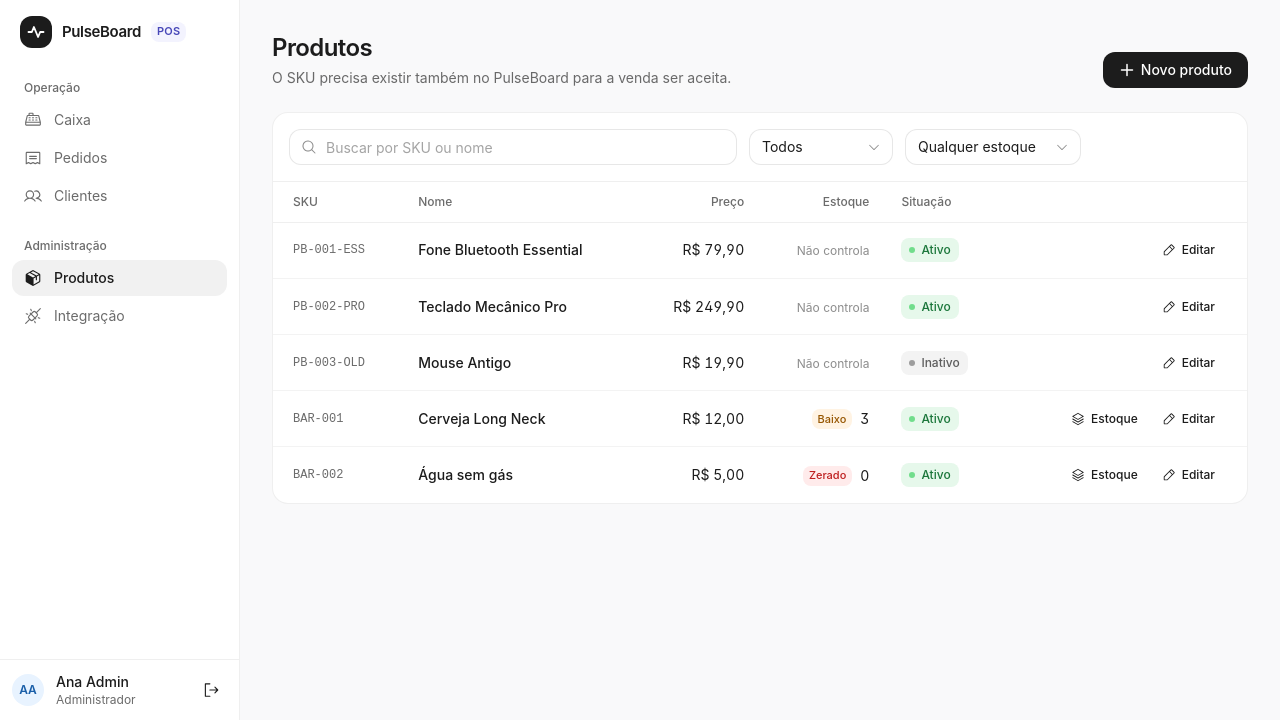
Test: stock (admin) › requires a reason for an adjustment and shows a balance that would go negative
The image size is (1280, 720).
Click the button with aria-label "Estoque de Cerveja Long Neck" at (1104, 418), box [1059,402,1150,434]
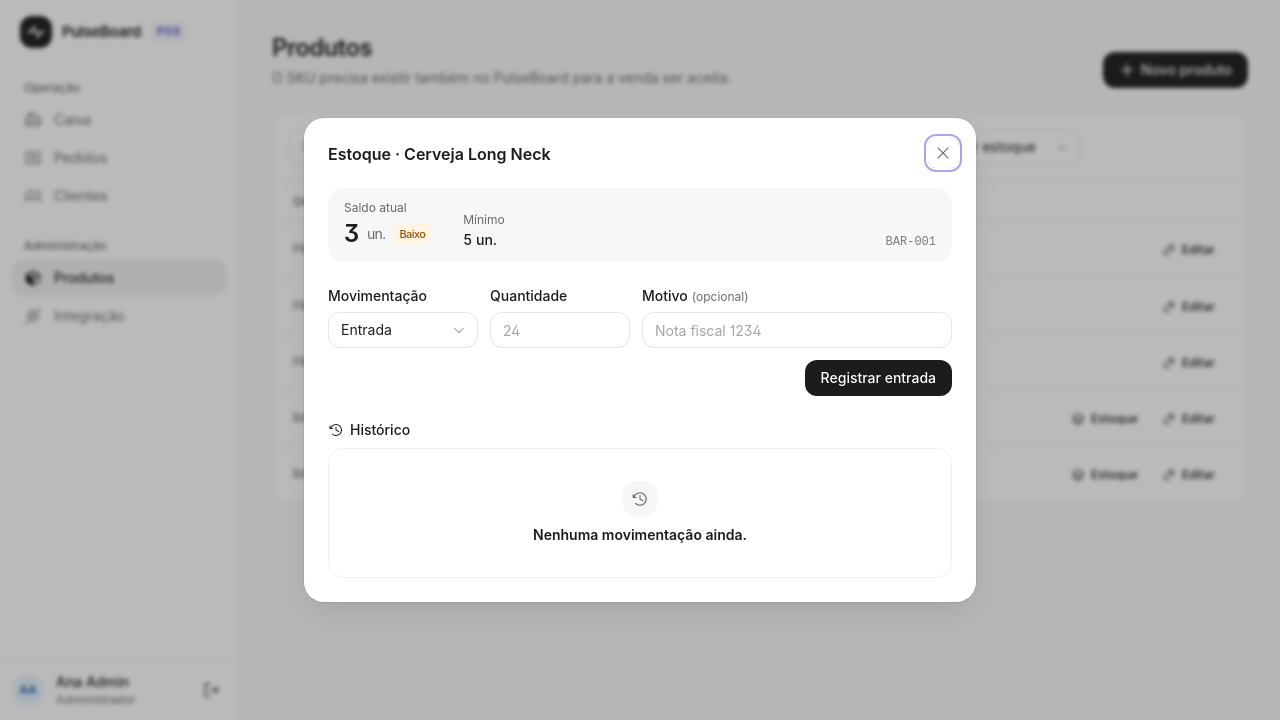
Select "Ajuste" in the dropdown labelled "Movimentação" at (403, 330), box [328,312,478,348]
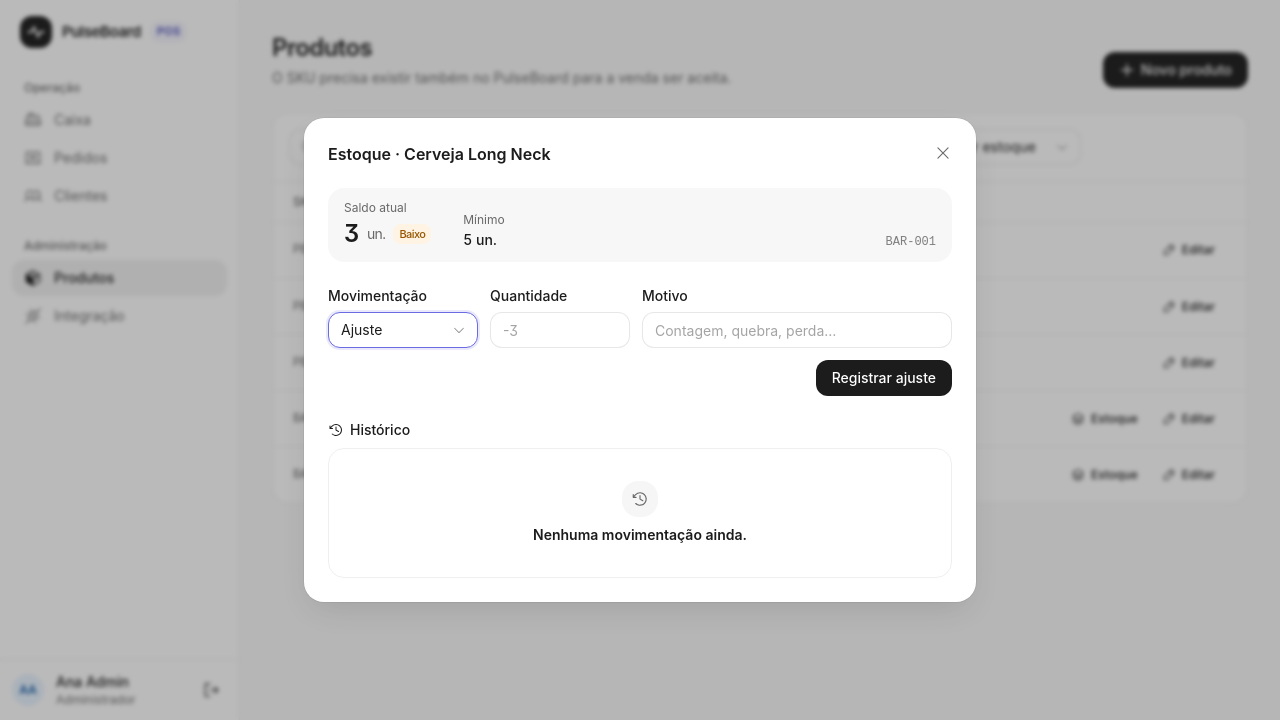
Type "-5" into the field labelled "Quantidade" at (560, 330), box [490,312,630,348]
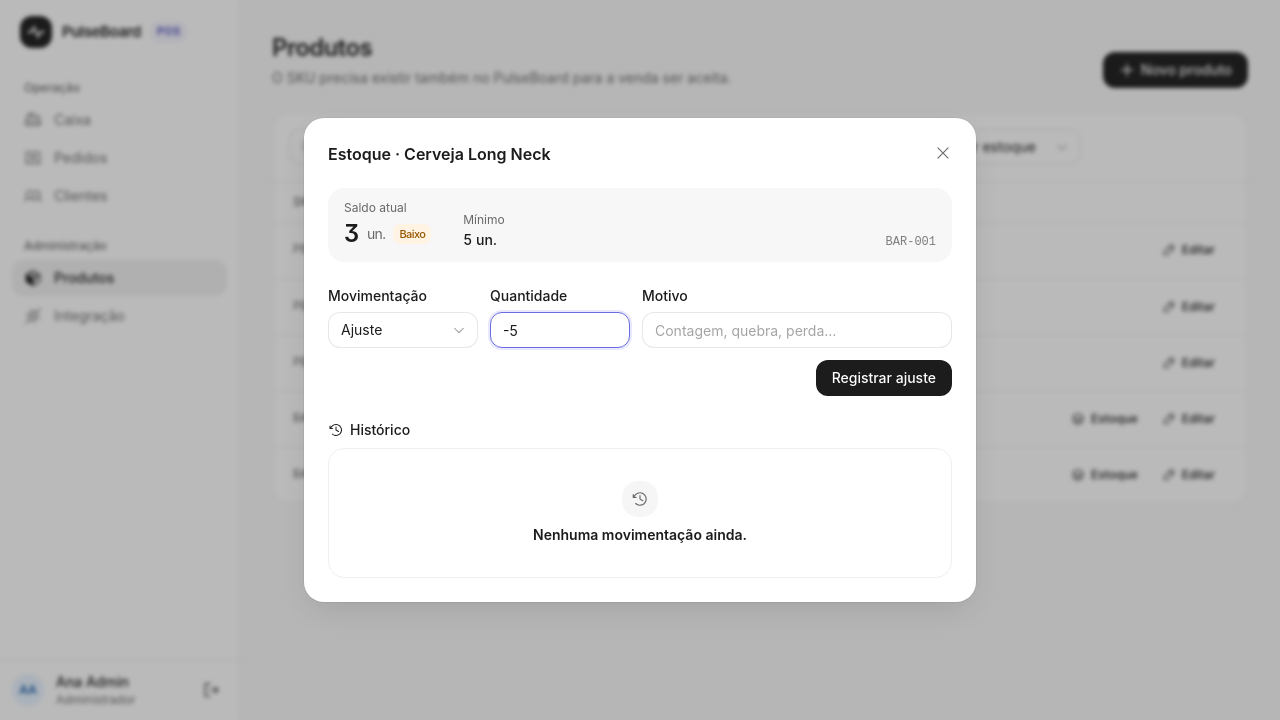
Click the button "Registrar ajuste" at (884, 378), box [816,360,952,396]
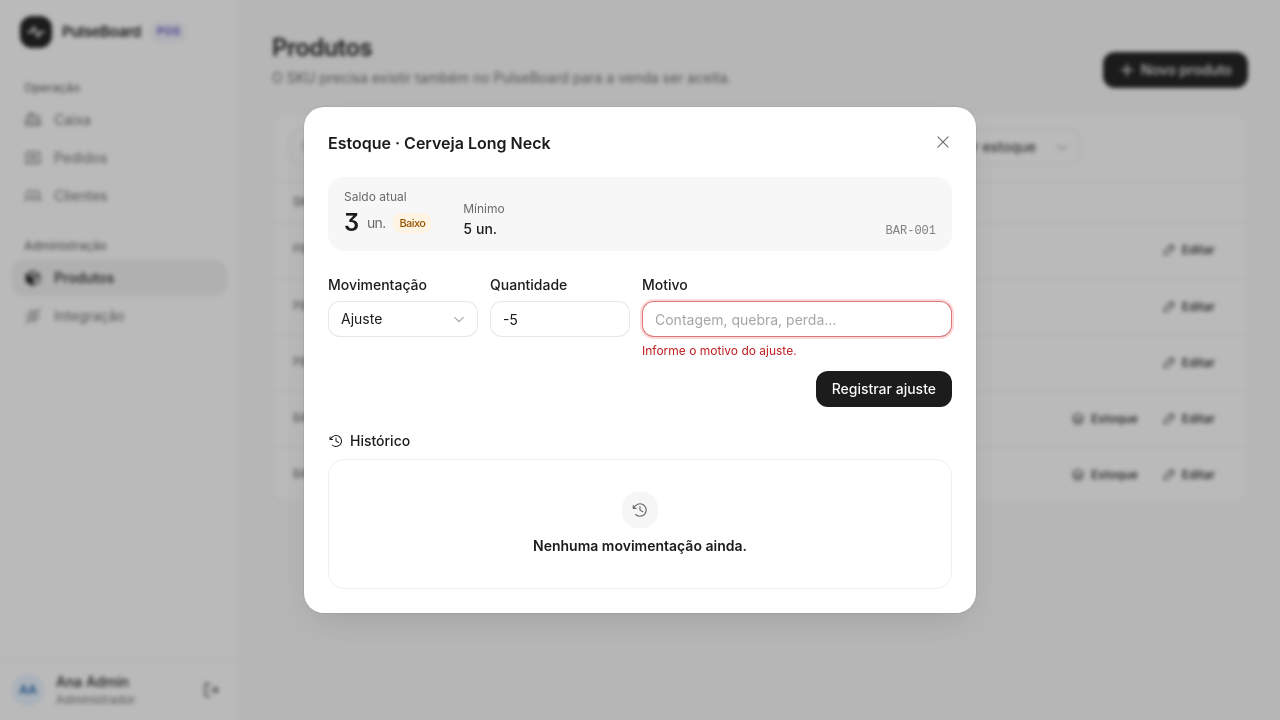
Expected: the text "Informe o motivo do ajuste." is shown, [642,343,797,358]
Type "Quebra" into the field labelled "Motivo" at (797, 319), box [642,301,952,337]
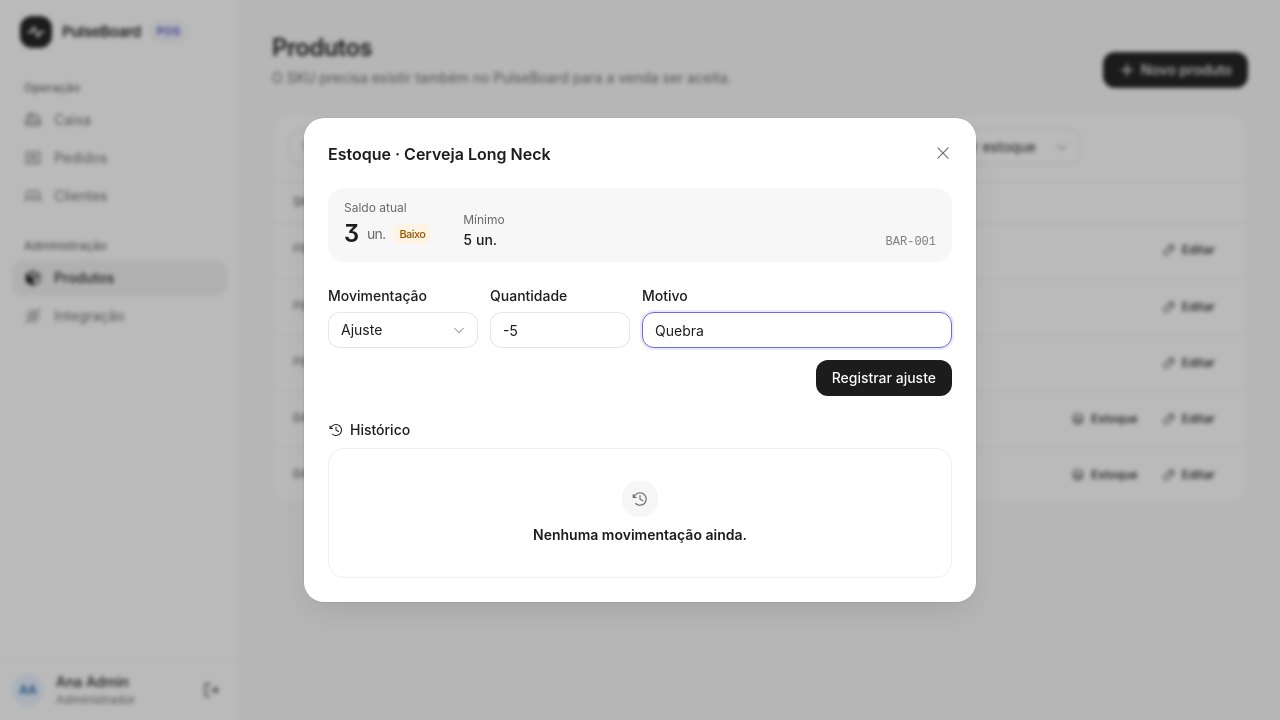
Click the button "Registrar ajuste" at (884, 378), box [816,360,952,396]
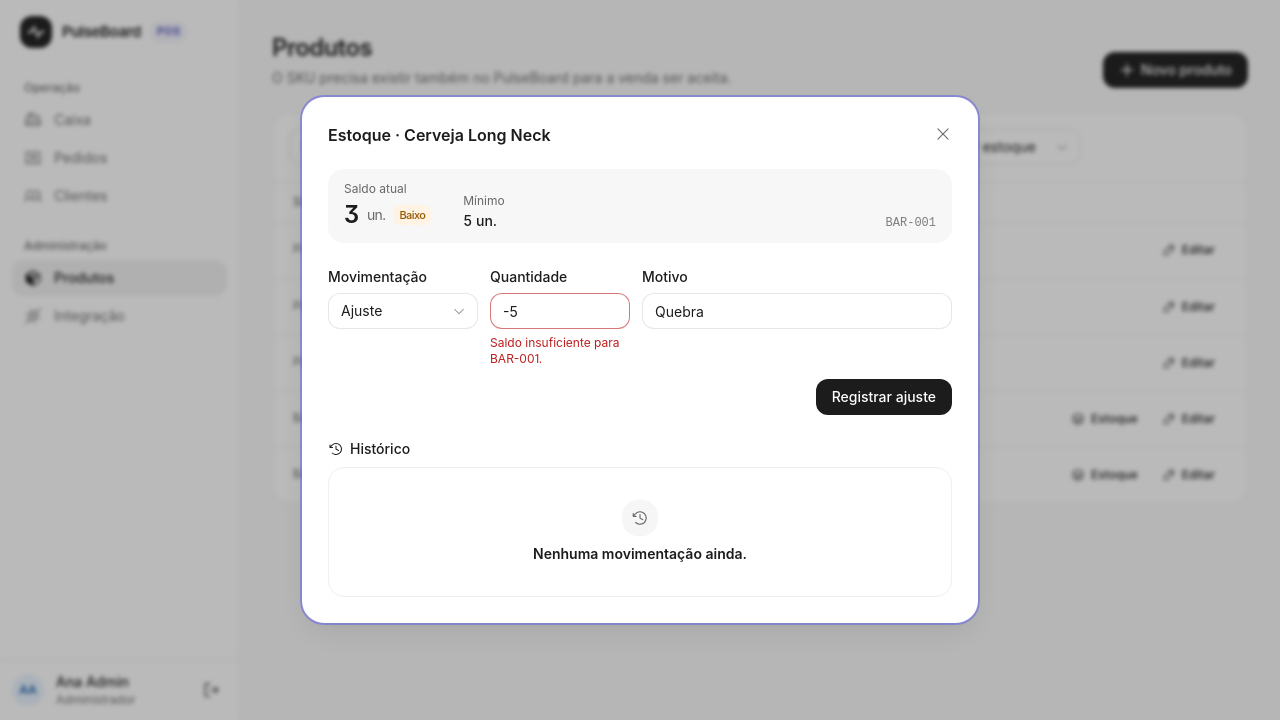
Expected: the text with test id "stock-balance" reads "3", [344,200,359,229]
Expected: the text "Saldo insuficiente para BAR-001." is shown, [490,335,630,367]
